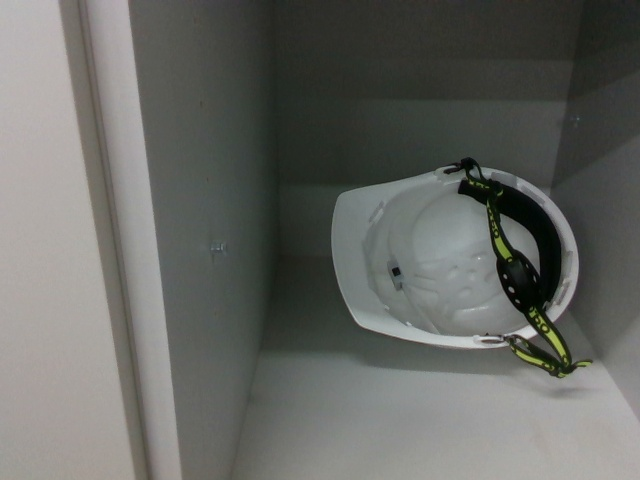helmet: (326, 155, 580, 358)
